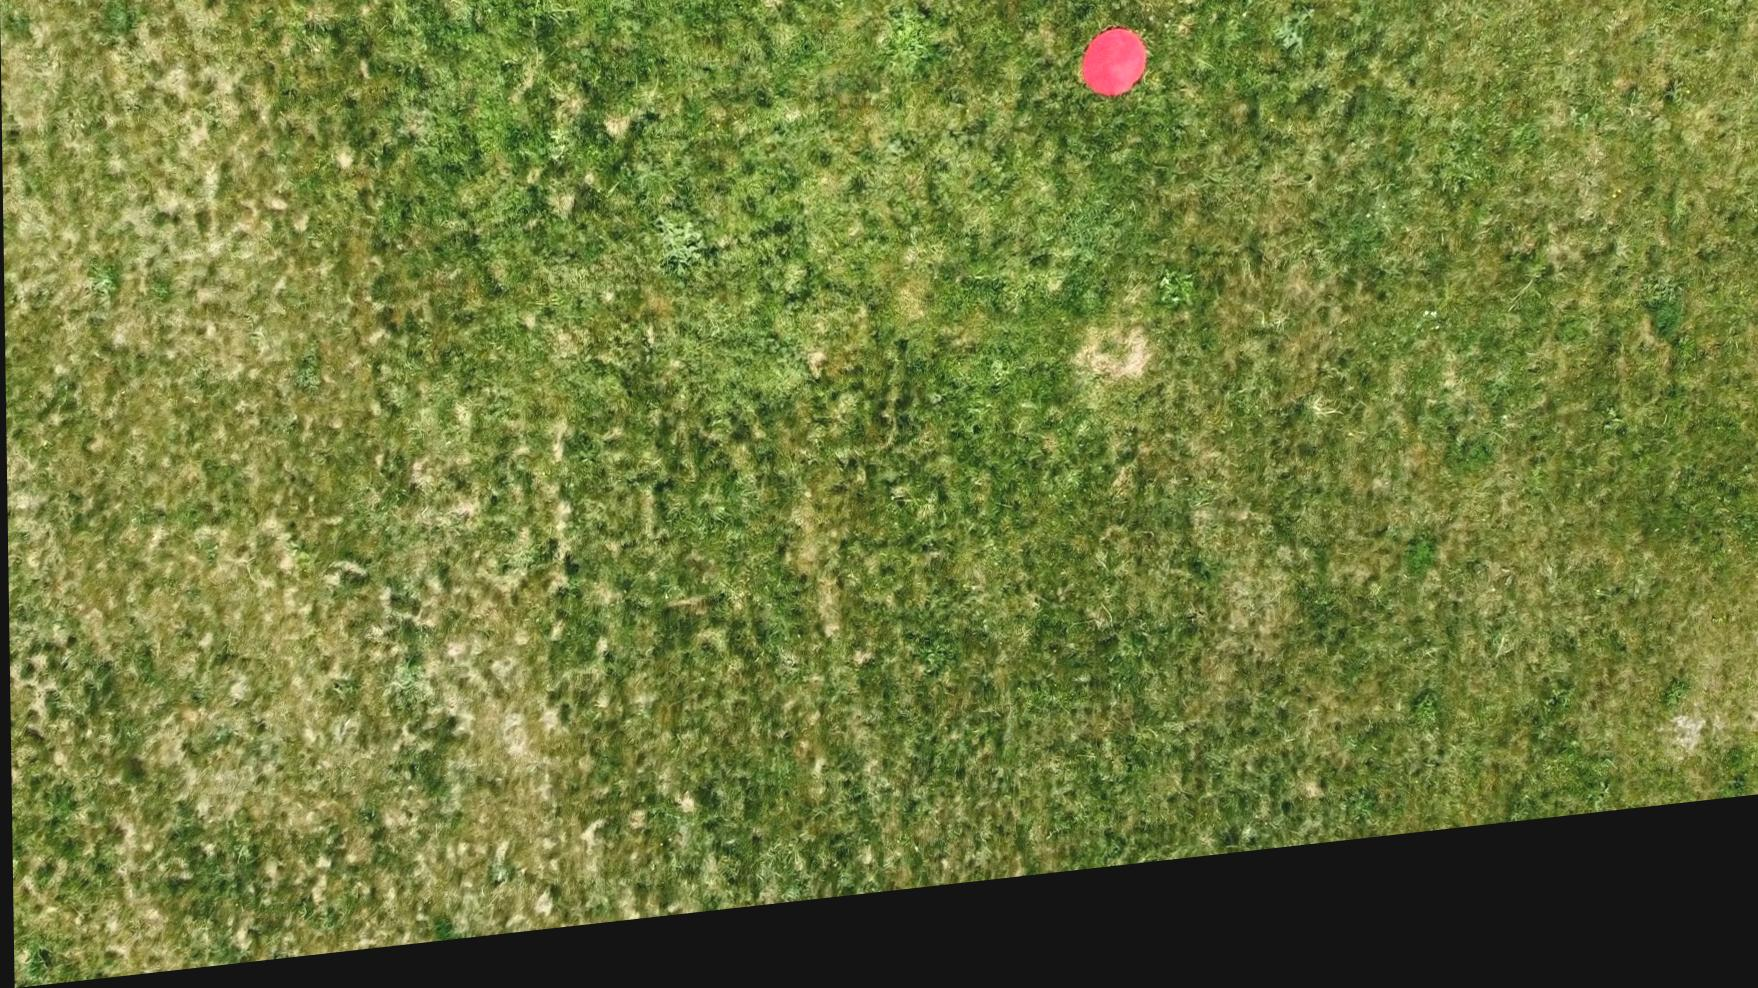Red: (1079, 48, 1153, 129)
